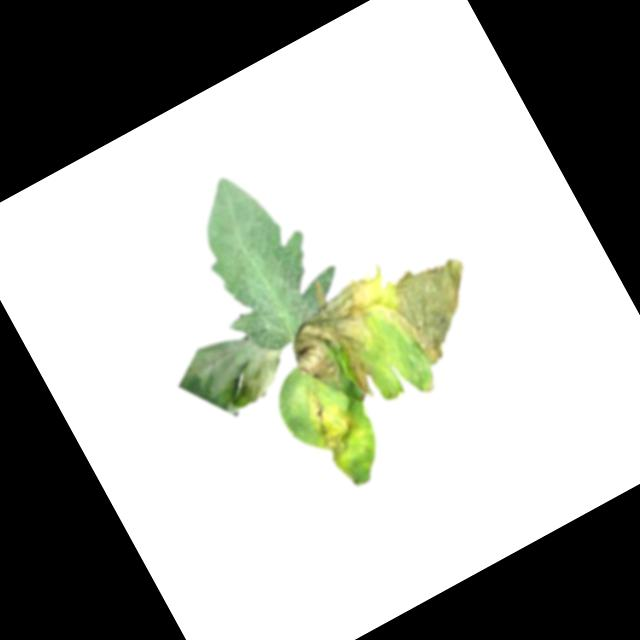Late_blight: (276, 275, 418, 420), (168, 313, 300, 435), (377, 244, 500, 372), (297, 383, 366, 463)
